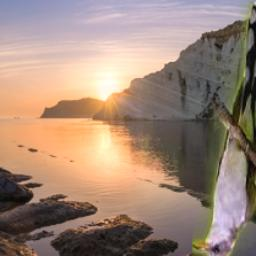Cuckoo: (192, 2, 256, 256)
